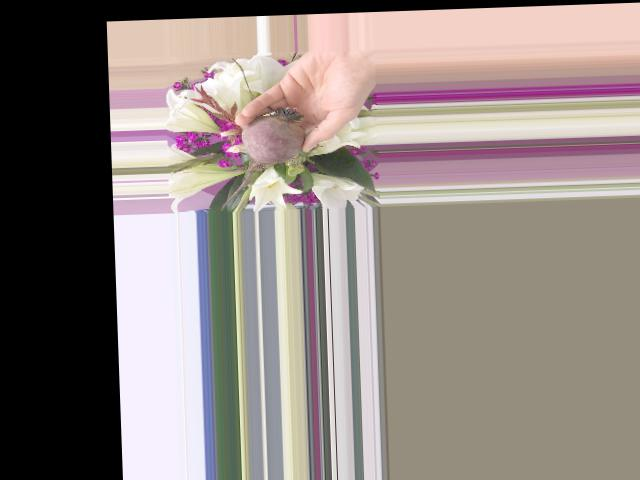beet: (216, 106, 307, 209)
